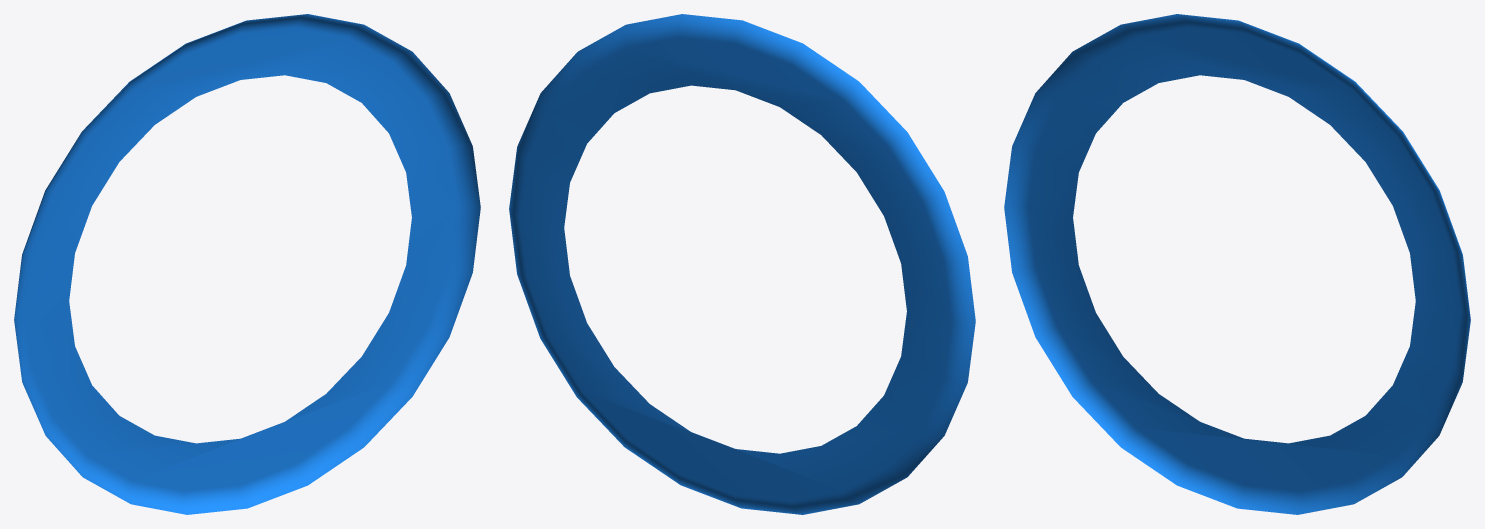
The picture shows the model from 3 angles, left to right: view 1: azimuth 30°, elevation 25°; view 2: azimuth 150°, elevation 25°; view 3: azimuth 330°, elevation 25°; orthographic projection.
Size of the model in its own units: 0.3198 by 0.3198 by 0.00835.
